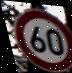Speed Limit -60-: (7, 5, 72, 72)
